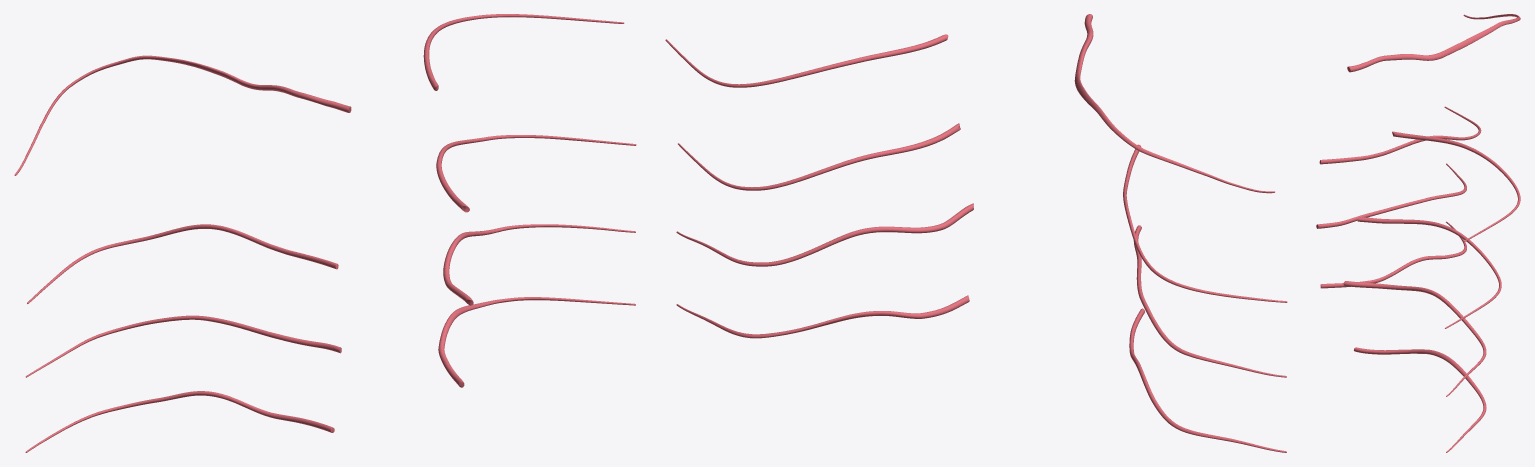
The model's file is fma15370_cx18.glb.
The picture shows the model from 3 angles, left to right: view 1: azimuth 30°, elevation 25°; view 2: azimuth 150°, elevation 25°; view 3: azimuth 270°, elevation 25°; orthographic projection. The views are drawn at different scales.
Visible parts, largest first — view 1: FMA15370_CX18; view 2: FMA15370_CX18; view 3: FMA15370_CX18.
Boxes of the visible parts, x1=… form: FMA15370_CX18: x1=14, y1=14, x2=636, y2=452; FMA15370_CX18: x1=665, y1=14, x2=1287, y2=452; FMA15370_CX18: x1=1316, y1=14, x2=1520, y2=452.
Size of the model in its own units: 0.1817 by 0.0955 by 0.0683.
